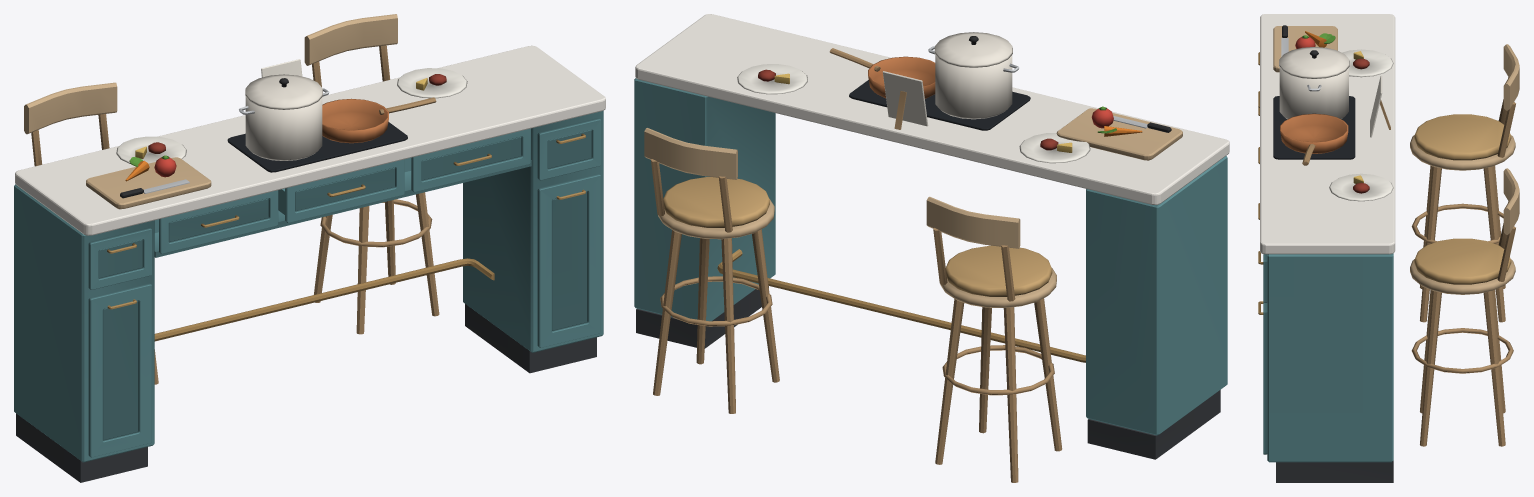
The model's file is chefsIsland.glb.
3 views of the same model, side by side, from view 1: azimuth 30°, elevation 25°; view 2: azimuth 150°, elevation 25°; view 3: azimuth 270°, elevation 25° (orthographic). The views are drawn at different scales.
Visible parts, largest first — view 1: body, drawer; view 2: body; view 3: body.
Part boxes in pixels (box(x1,y1,x2,y2)): body: box(14, 14, 605, 482); drawer: box(278, 159, 404, 222); body: box(634, 14, 1229, 482); body: box(1258, 14, 1519, 482).
Bounding box in the file's own units: 1.86 × 1.13 × 0.89.
